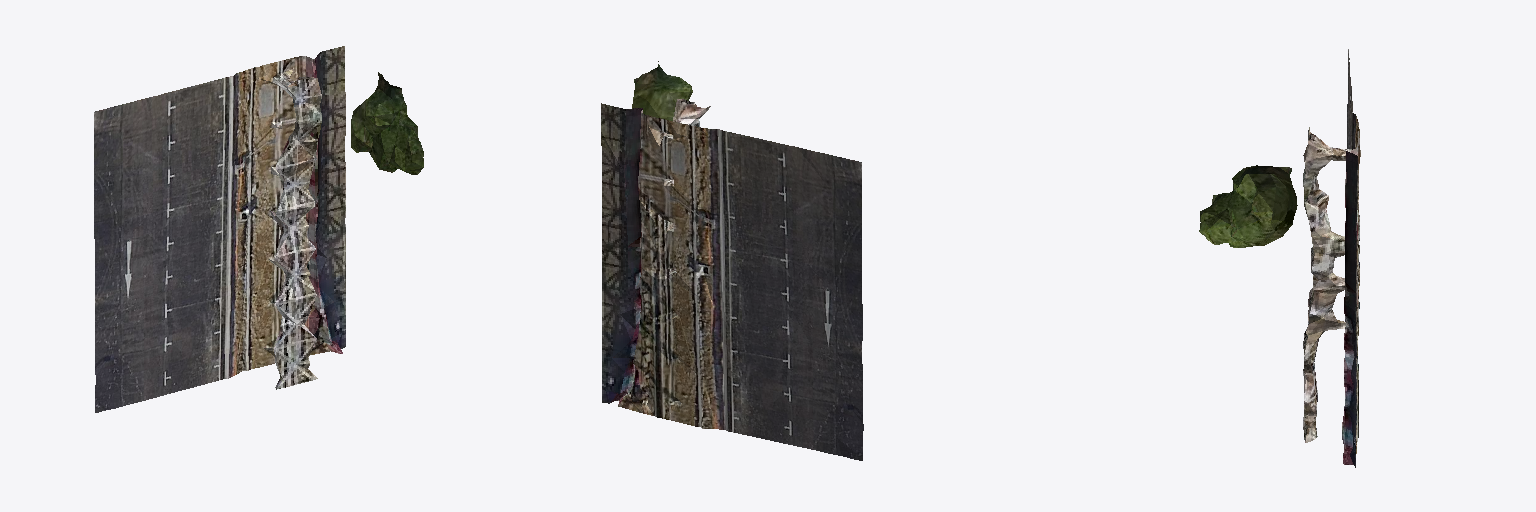
3 views of the same model, side by side, from view 1: azimuth 30°, elevation 25°; view 2: azimuth 150°, elevation 25°; view 3: azimuth 270°, elevation 25° (orthographic).
Parts seen in each view (by area): view 1: obj_0; view 2: obj_0; view 3: obj_0.
Part boxes in pixels (x1,y1,x2,y2): obj_0: (94, 46, 423, 412); obj_0: (601, 61, 863, 460); obj_0: (1199, 49, 1360, 467).
Bounding box in the file's own units: 20.08 × 22.53 × 10.97.
Materials: 1 (1 with a texture image).